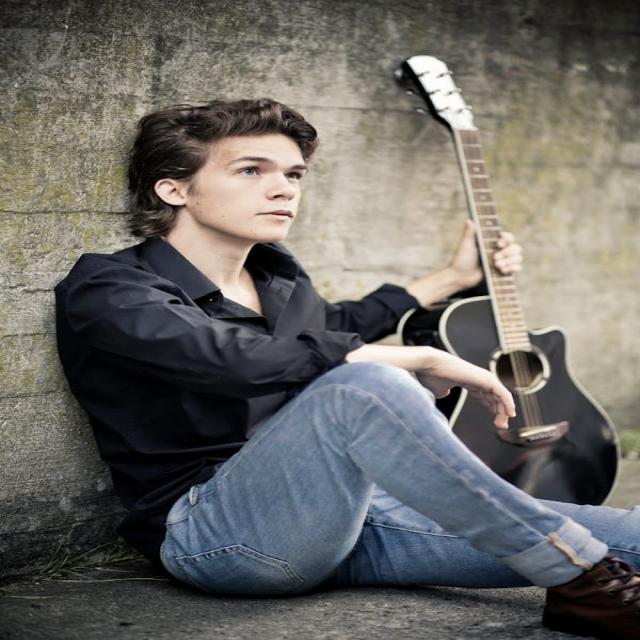Real human 2: (41, 81, 640, 640)
